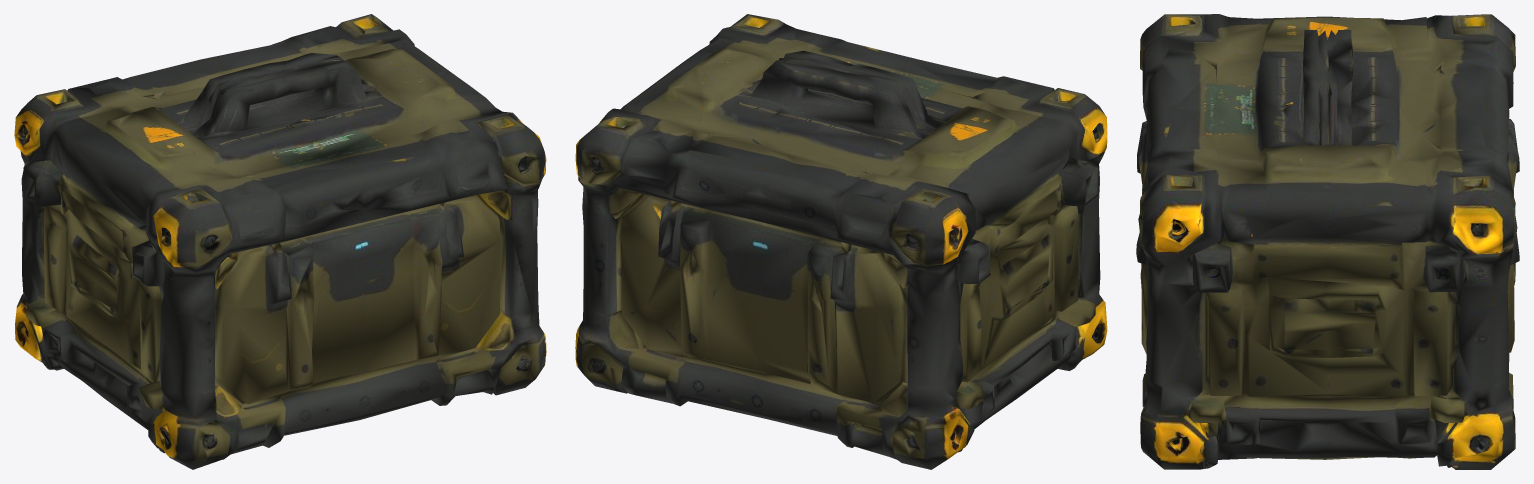
File: Meshy_AI_ARMEX_Ammo_Crate_balanced.glb
The picture shows the model from 3 angles, left to right: view 1: azimuth 30°, elevation 25°; view 2: azimuth 150°, elevation 25°; view 3: azimuth 270°, elevation 25°; orthographic projection. The views are drawn at different scales.
Bounding box in the file's own units: 1.9 × 1.39 × 1.5.
1 material, 1 textured.
